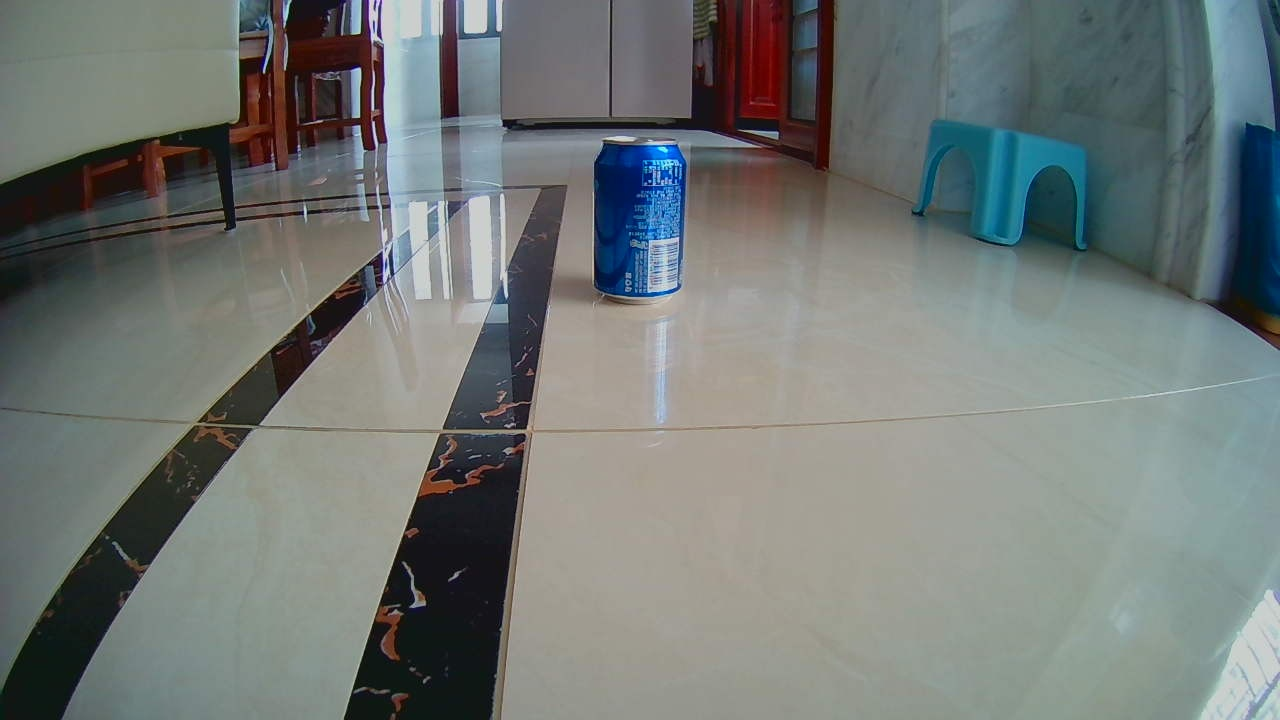pessi: (592, 133, 683, 301)
